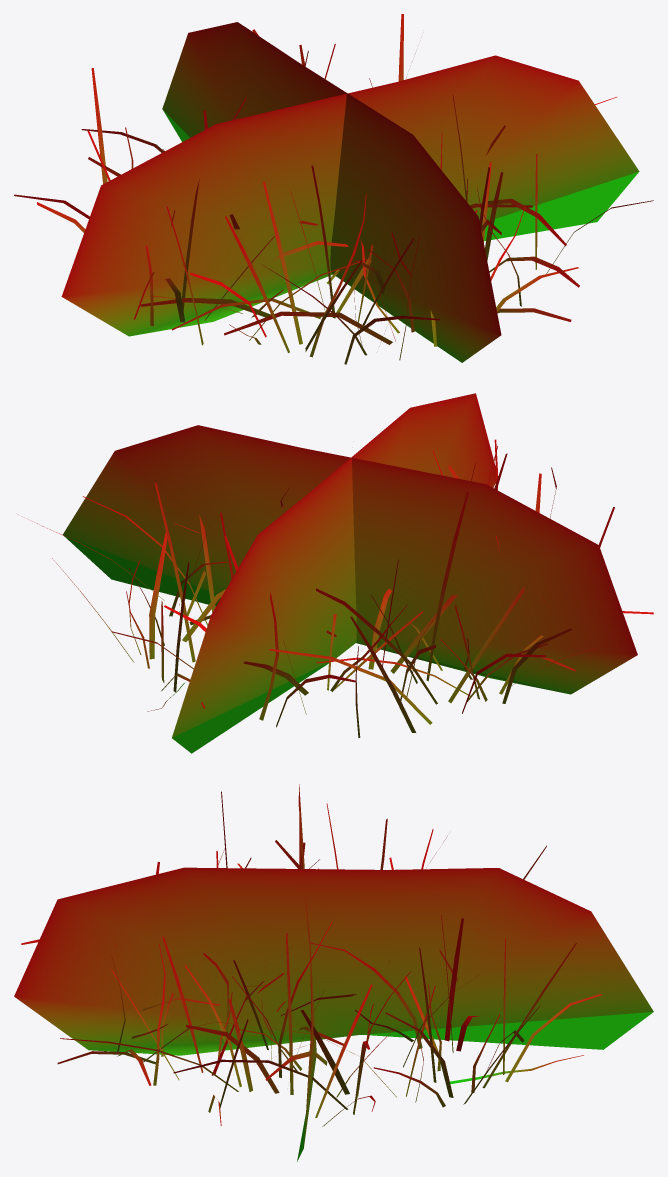
Rendered from vegetation_21.fbx.
The picture shows the model from 3 angles, top to bottom: view 1: azimuth 30°, elevation 25°; view 2: azimuth 150°, elevation 25°; view 3: azimuth 270°, elevation 25°; orthographic projection. The views are drawn at different scales.
Parts seen in each view (by area): view 1: _n6k5_Var18_; view 2: _n6k5_Var18_; view 3: _n6k5_Var18_.
Part boxes in pixels (x1,y1,x2,y2): _n6k5_Var18_: (14, 14, 653, 364); _n6k5_Var18_: (17, 393, 653, 753); _n6k5_Var18_: (14, 784, 653, 1161).
Size of the model in its own units: 55.29 by 17.65 by 54.04.
